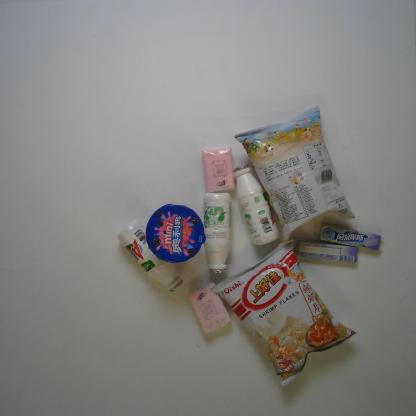Candy: (292, 233, 364, 271), (314, 221, 386, 256)
Dessert: (142, 197, 206, 266)
Milk: (116, 221, 187, 296), (229, 163, 282, 248), (195, 190, 240, 279)
Puffed Food: (213, 238, 354, 391), (233, 106, 356, 242)
Tissue: (186, 281, 230, 340), (199, 147, 242, 192)
